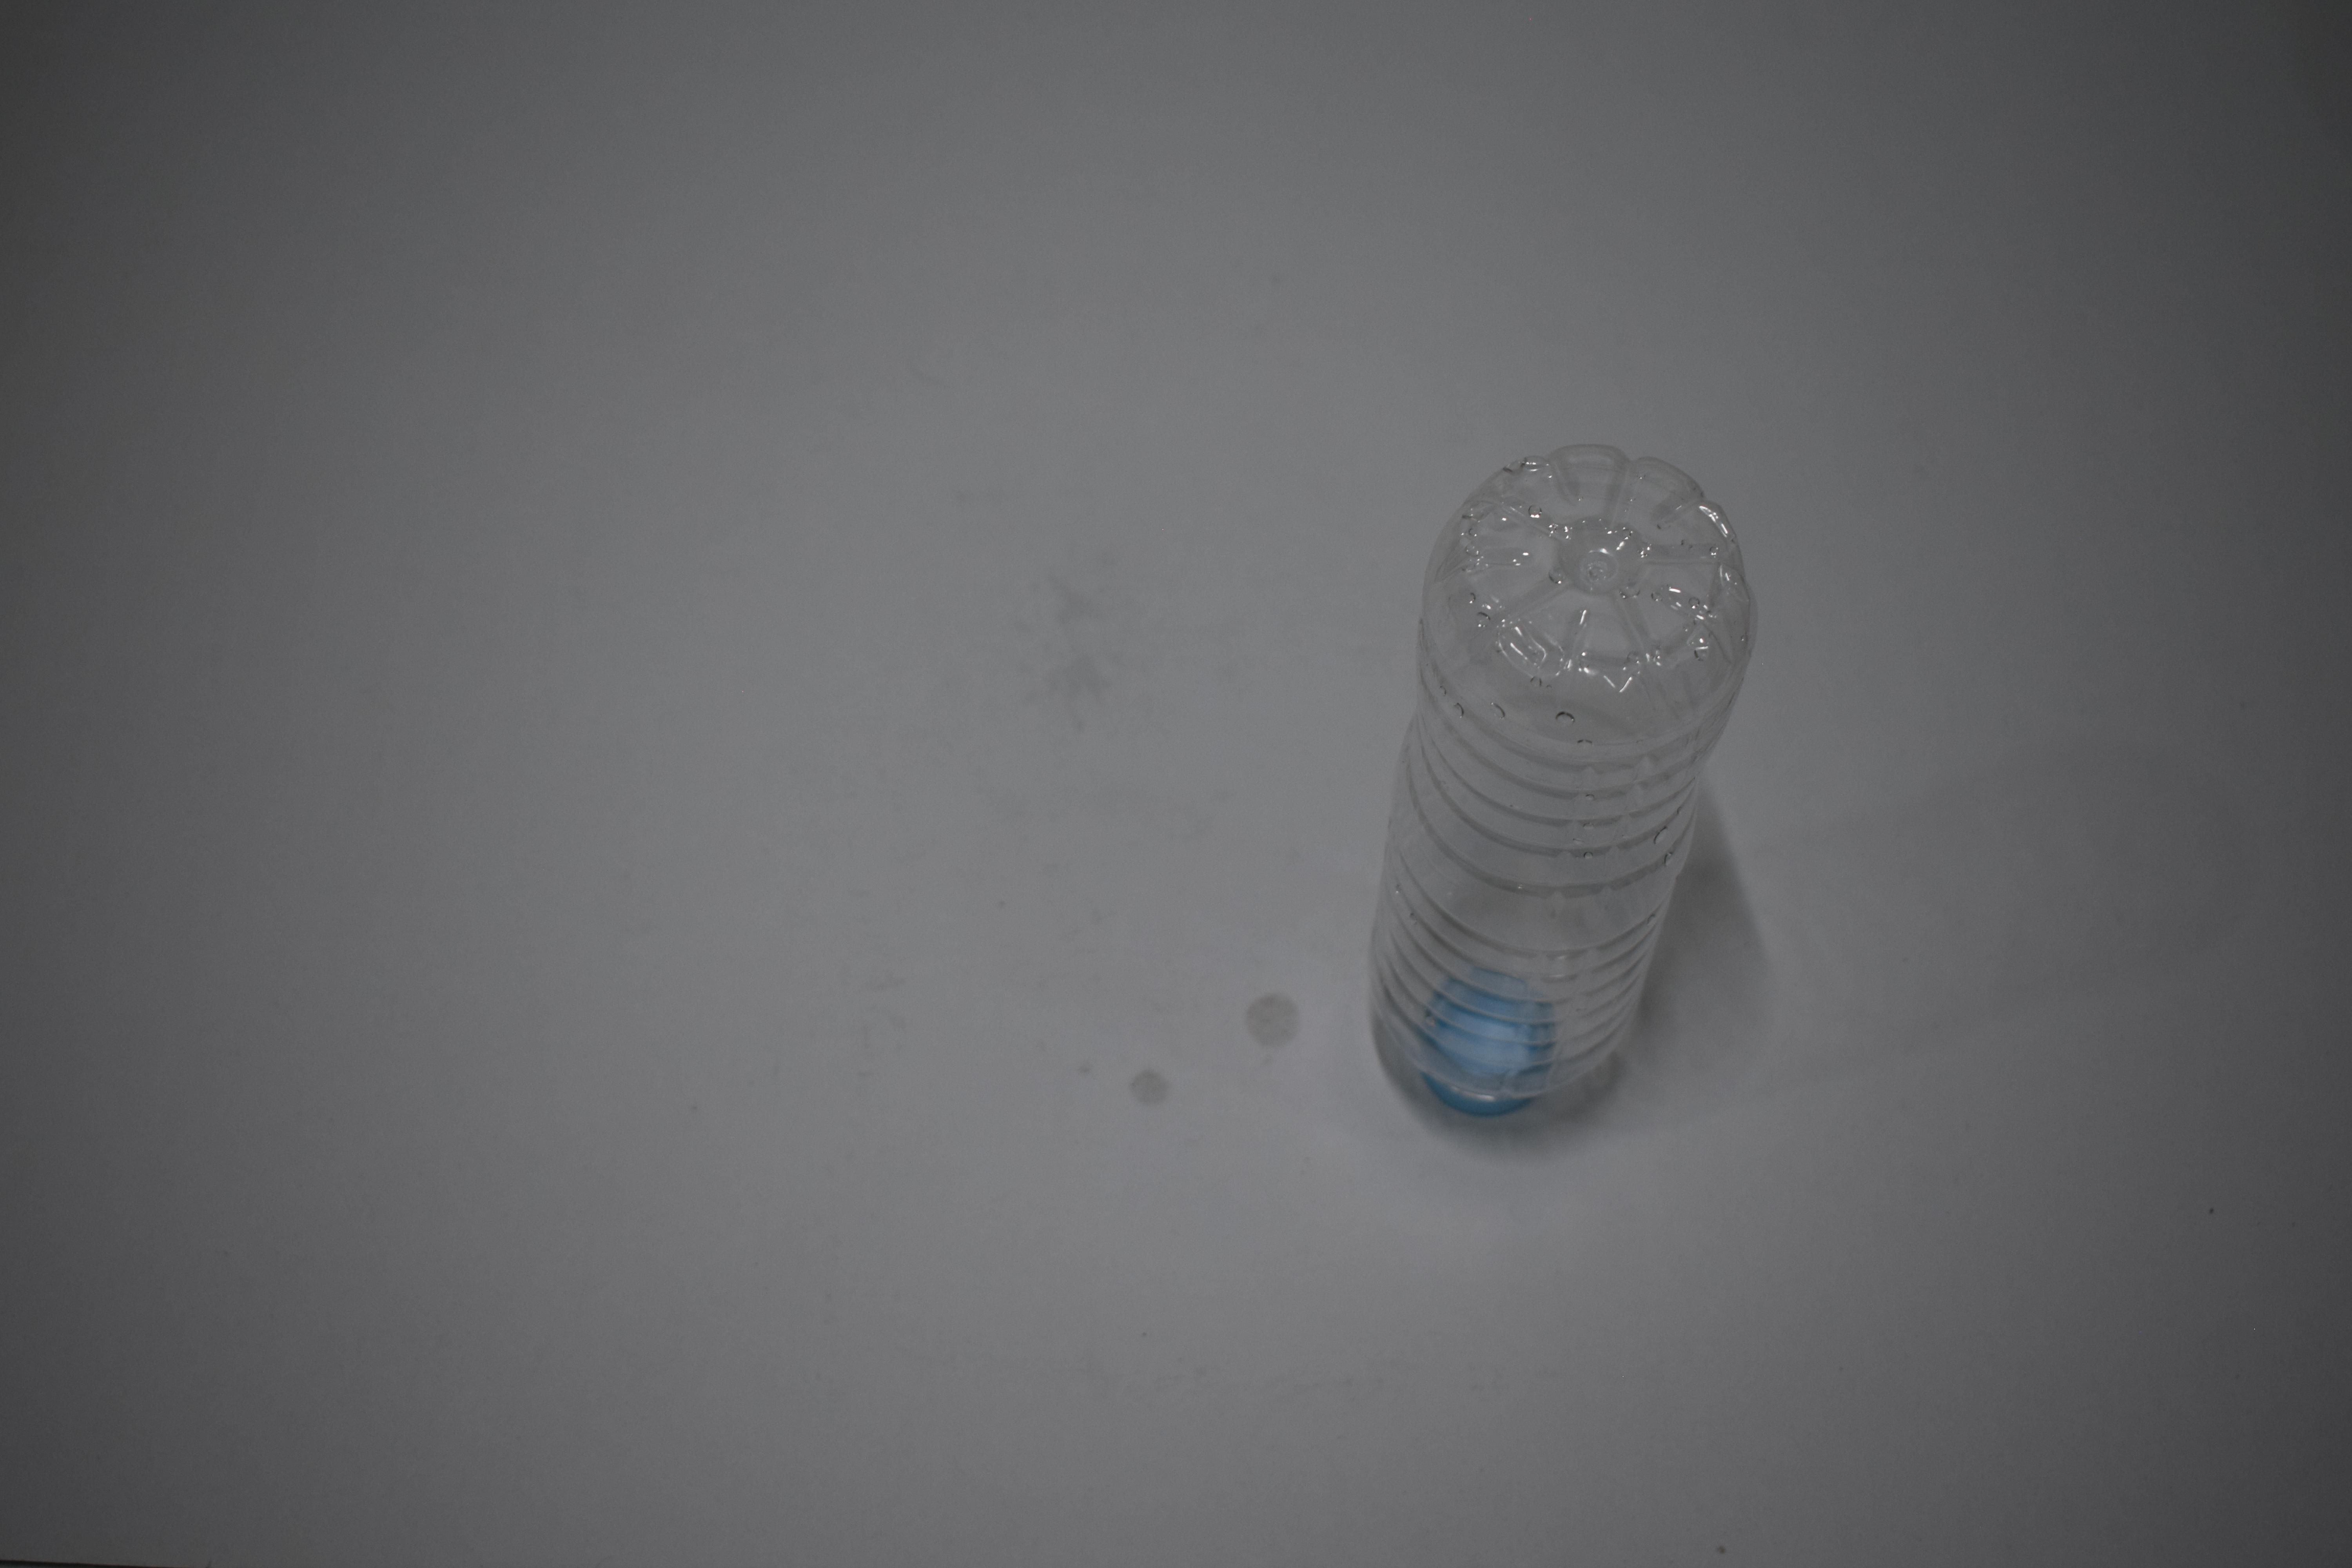bottle: (1353, 427, 1752, 1129)
